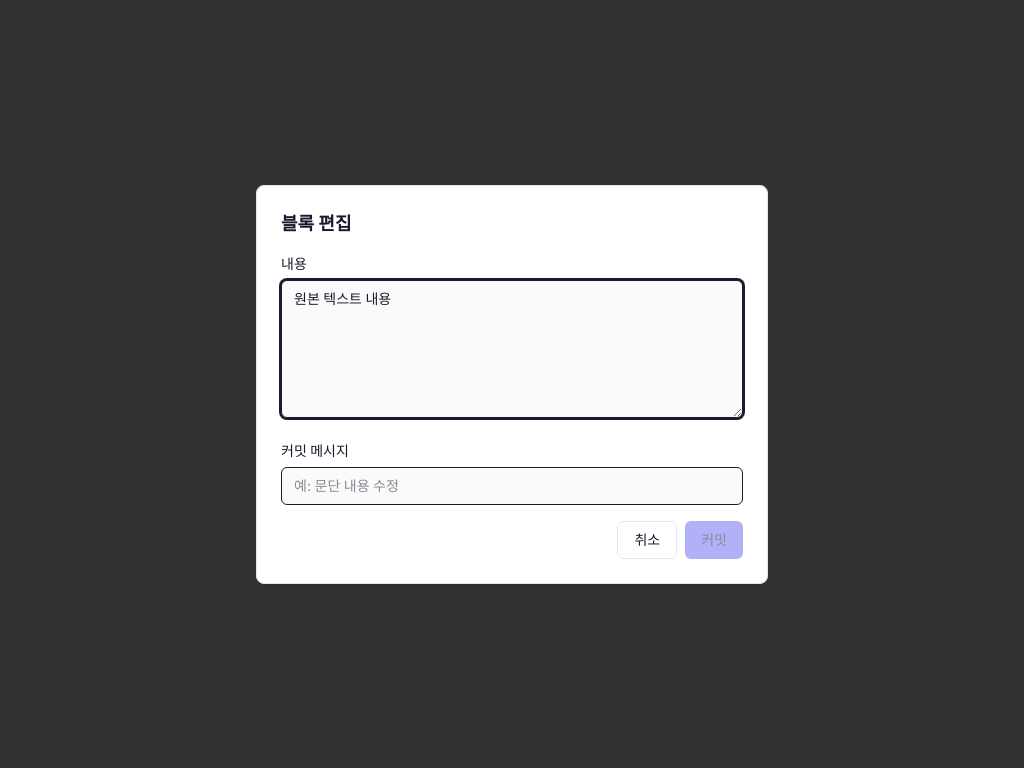
BlockEditorDialog › enables commit button when content changed and message provided
Replace the text in the text box labelled "내용" with "수정된 텍스트". click: (512, 348)
box: x1=281 y1=280 x2=743 y2=418
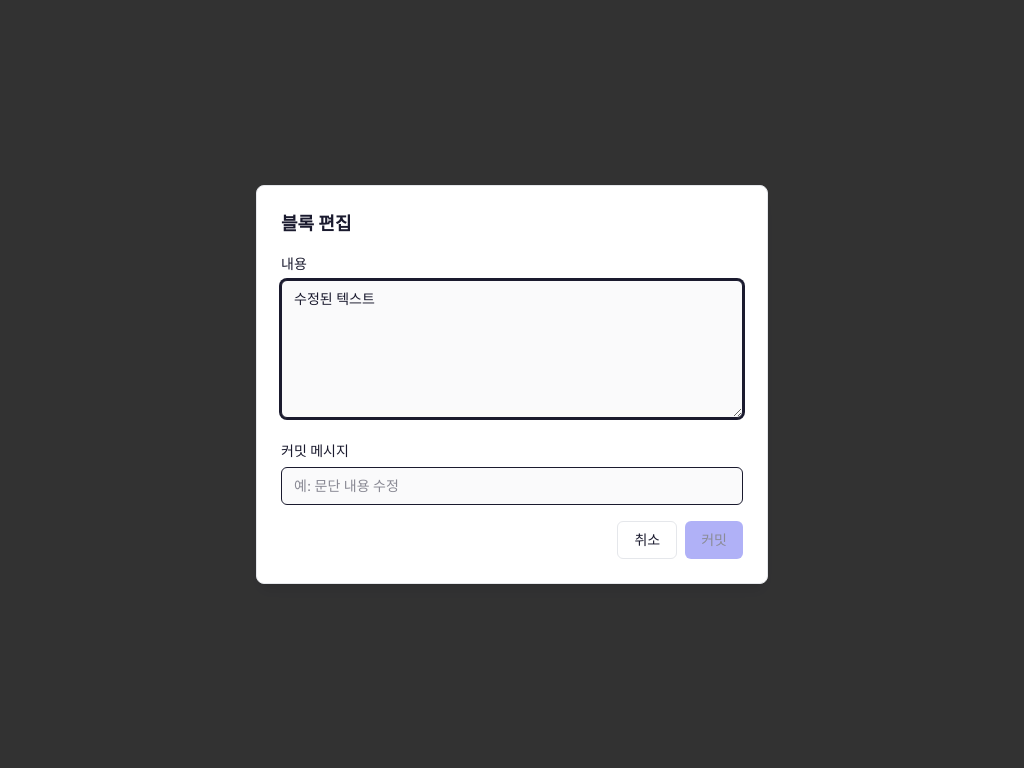
Type "블록 내용 수정" into the field labelled "커밋 메시지". click: (512, 486)
box: x1=281 y1=466 x2=743 y2=504
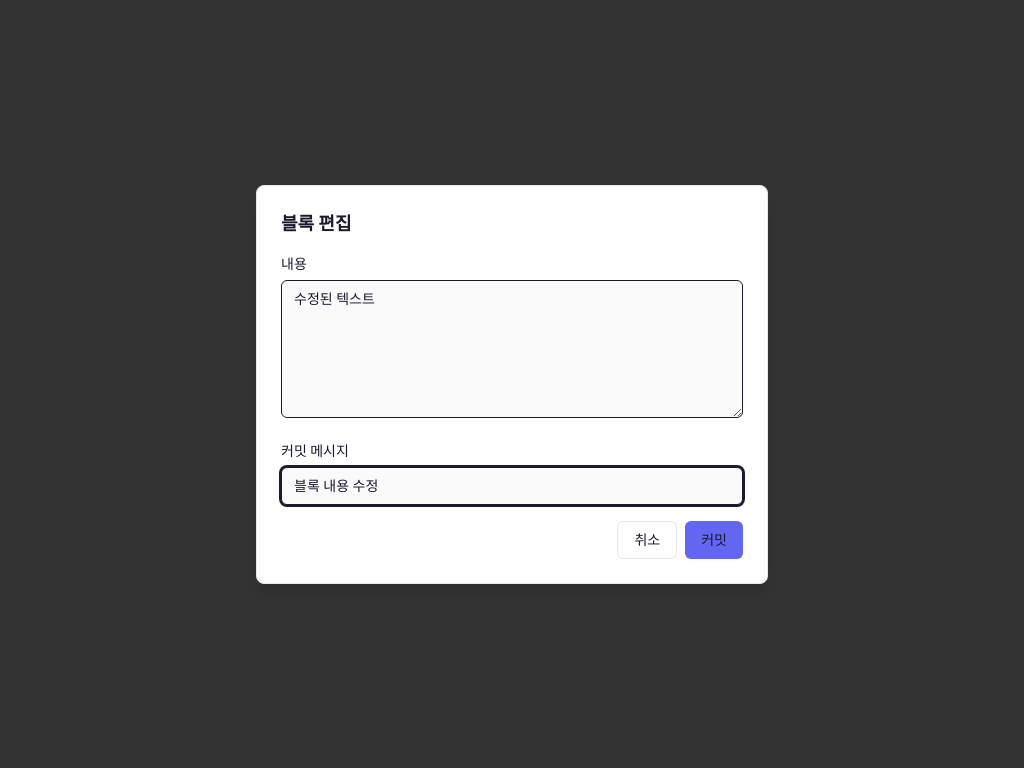
expect the button "커밋" is enabled: met, box x1=685 y1=520 x2=743 y2=558
